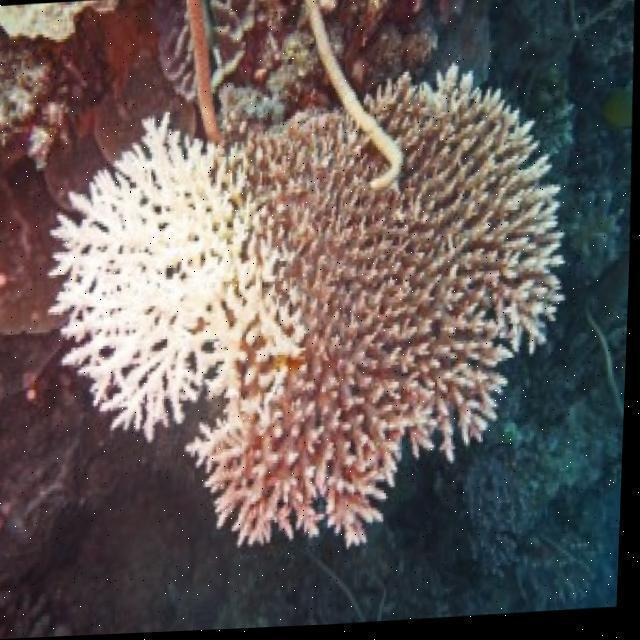Bleached Coral: (36, 113, 294, 450)
Healthy Coral: (217, 83, 566, 548)
